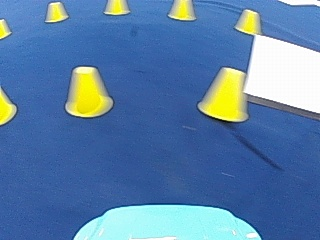cone: (197, 66, 248, 121), (64, 65, 111, 118), (234, 8, 261, 34), (0, 87, 16, 124), (167, 0, 196, 20), (44, 2, 67, 23), (104, 0, 128, 15), (0, 18, 11, 38)
